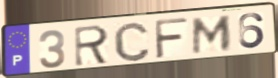3: (38, 28, 67, 69)
6: (237, 12, 267, 51)
C: (112, 20, 152, 63)
F: (153, 17, 190, 61)
M: (191, 14, 234, 56)
R: (73, 23, 112, 68)
